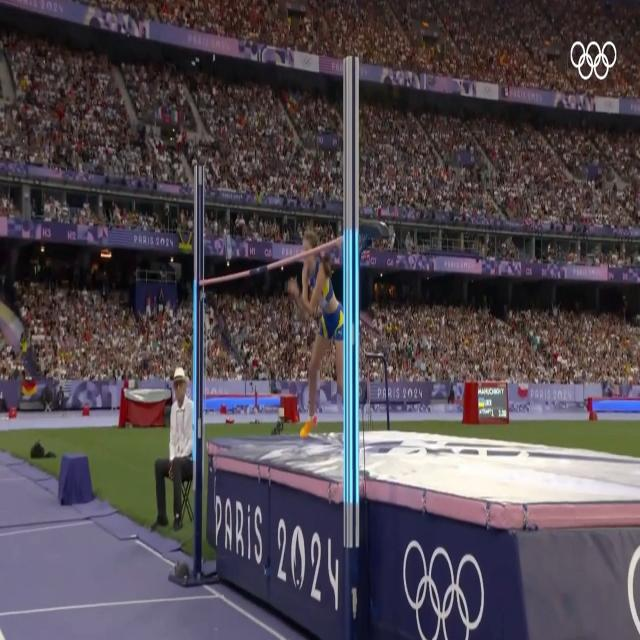land: (288, 230, 346, 439)
